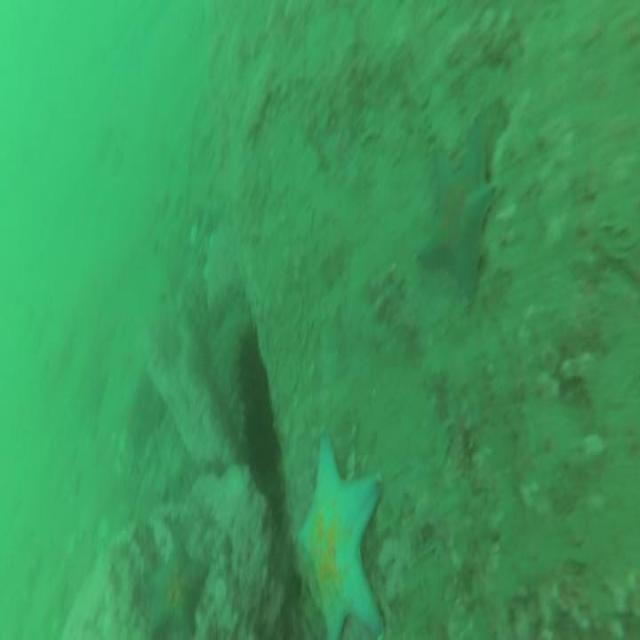echinus: (238, 395, 284, 482), (232, 324, 271, 404)
starfish: (292, 436, 386, 640), (414, 124, 497, 304), (140, 532, 209, 640)
